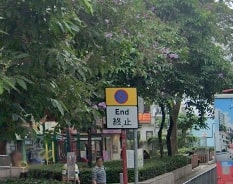End Of No Stopping: (103, 88, 141, 129)
